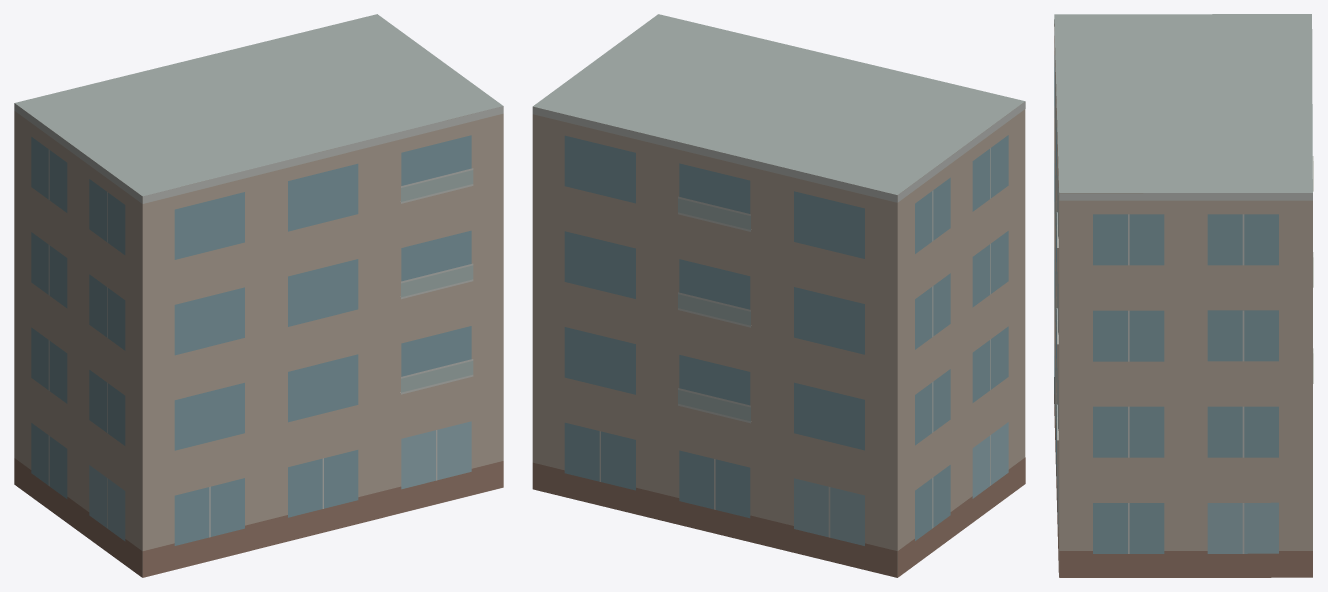
File: survey-upis-32993451.glb
The picture shows the model from 3 angles, left to right: view 1: azimuth 30°, elevation 25°; view 2: azimuth 150°, elevation 25°; view 3: azimuth 270°, elevation 25°; orthographic projection.
Visible parts, largest first — view 1: survey-upis-32993451.tmp; view 2: survey-upis-32993451.tmp; view 3: survey-upis-32993451.tmp.
Boxes of the visible parts, x1,y1,x2,y2 form: survey-upis-32993451.tmp: (14,14,503,577); survey-upis-32993451.tmp: (532,14,1025,577); survey-upis-32993451.tmp: (1054,14,1313,577).
Size of the model in its own units: 12.19 by 12.2 by 7.47.
